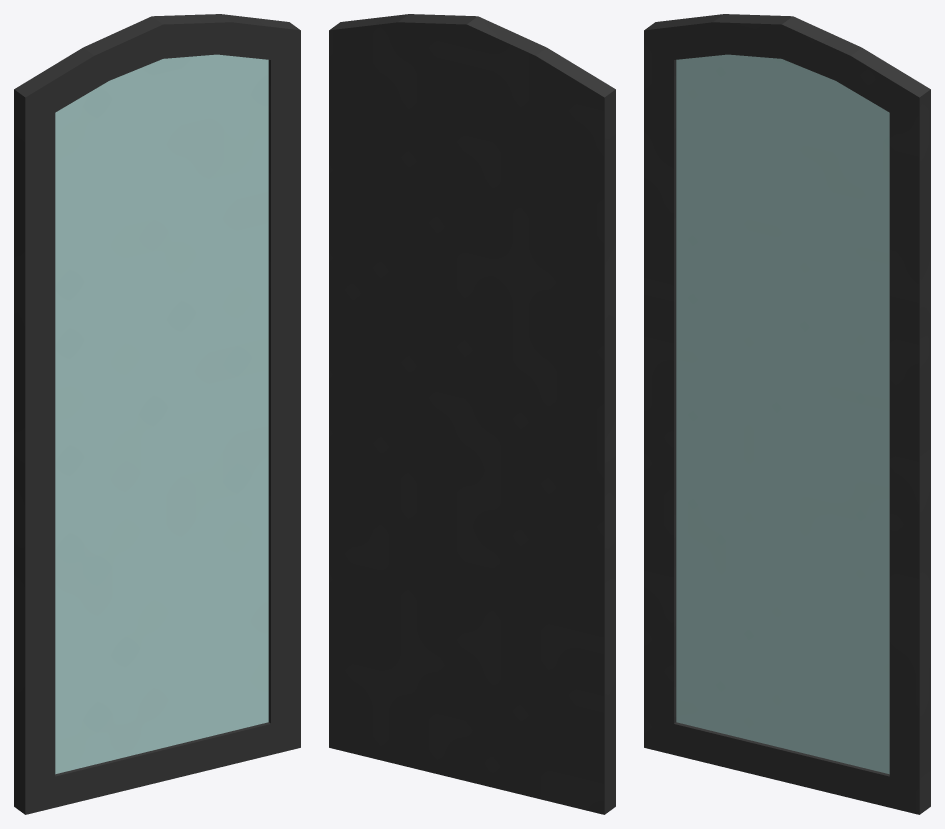
File: Mirror_02_03.fbx
The picture shows the model from 3 angles, left to right: view 1: azimuth 30°, elevation 25°; view 2: azimuth 150°, elevation 25°; view 3: azimuth 330°, elevation 25°; orthographic projection.
Parts seen in each view (by area): view 1: Mirror_02_03; view 2: Mirror_02_03; view 3: Mirror_02_03.
Boxes of the visible parts, x1=… form: Mirror_02_03: x1=14, y1=14, x2=300, y2=814; Mirror_02_03: x1=329, y1=14, x2=615, y2=814; Mirror_02_03: x1=644, y1=14, x2=930, y2=814.
Size of the model in its own units: 0.5642 by 1.48 by 0.0401.
